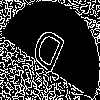D: (25, 25, 67, 83)
